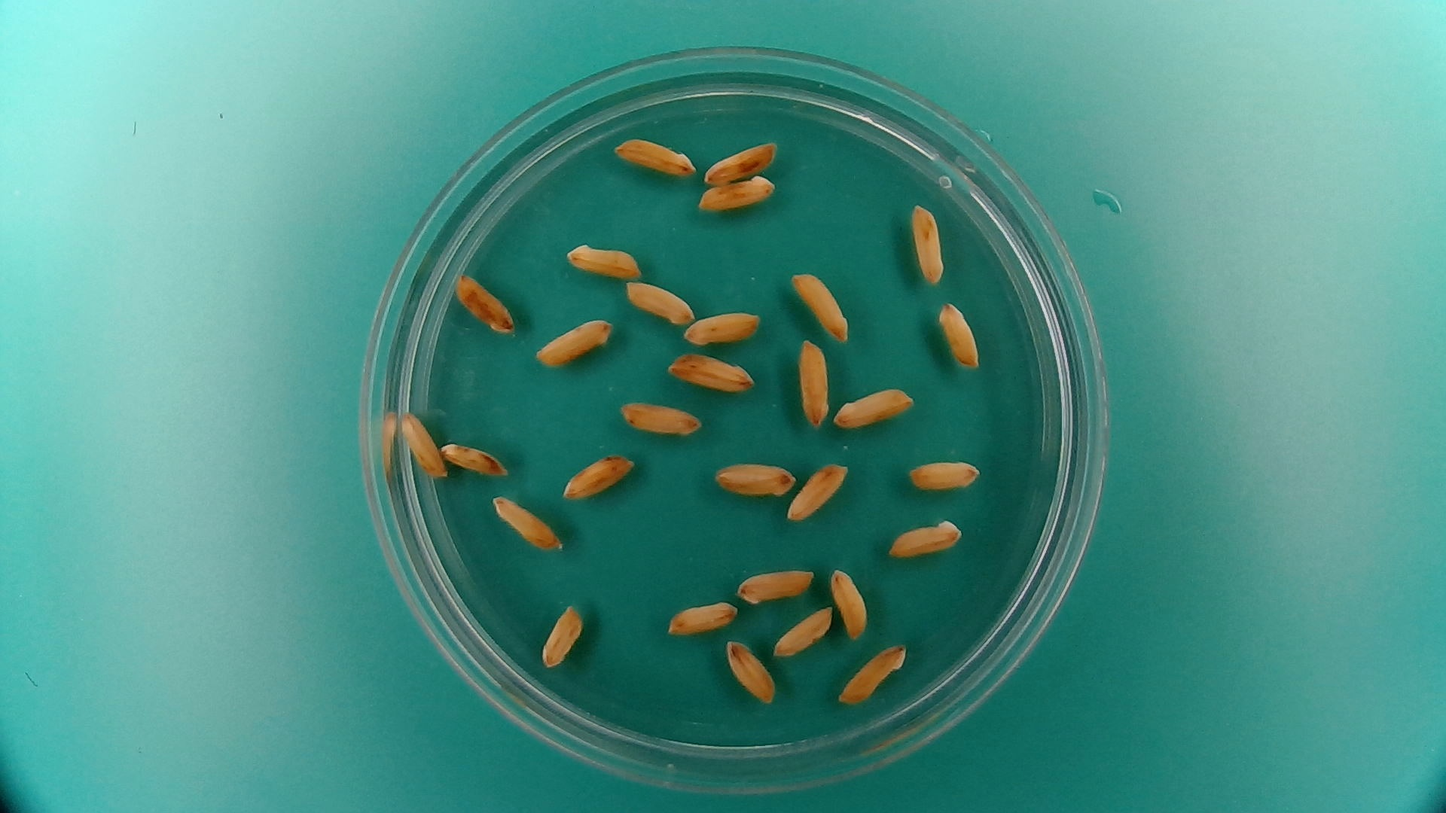no: (788, 267, 853, 344), (837, 641, 907, 705), (450, 269, 518, 333), (532, 315, 615, 367), (489, 493, 562, 552), (664, 349, 758, 393), (785, 459, 850, 522), (830, 384, 917, 431), (559, 450, 637, 501), (700, 136, 779, 186), (611, 134, 697, 177), (622, 277, 697, 325), (397, 408, 447, 480), (563, 241, 650, 282), (886, 515, 965, 560), (615, 397, 703, 437), (712, 457, 797, 498), (724, 637, 776, 704), (771, 603, 834, 658), (935, 297, 982, 370), (733, 563, 816, 604), (697, 171, 778, 213), (908, 199, 947, 285), (796, 334, 831, 428), (828, 565, 871, 641), (681, 307, 762, 347), (664, 596, 740, 638), (538, 601, 584, 669), (905, 455, 984, 493), (439, 439, 511, 479)
